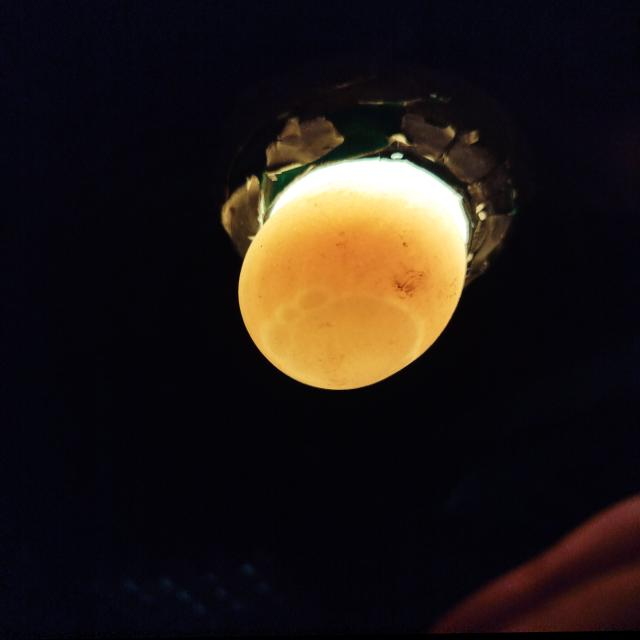Camara de Ar: (261, 289, 423, 391)
